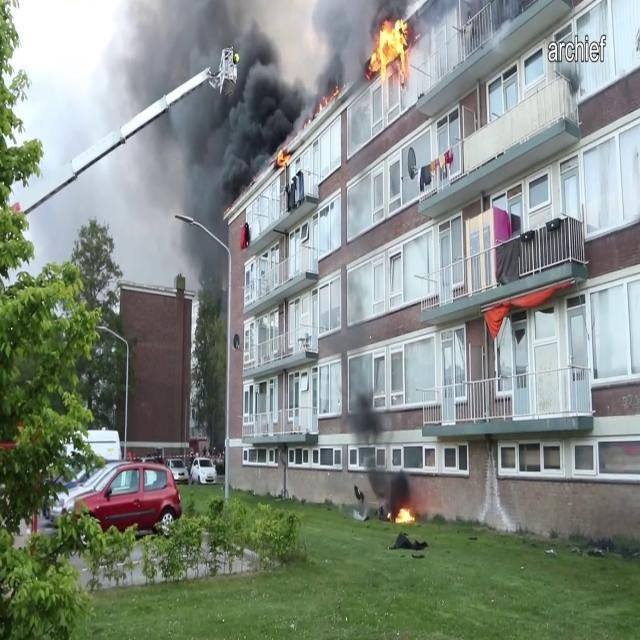Fire: (366, 12, 417, 88)
Smoke: (100, 0, 314, 254)
